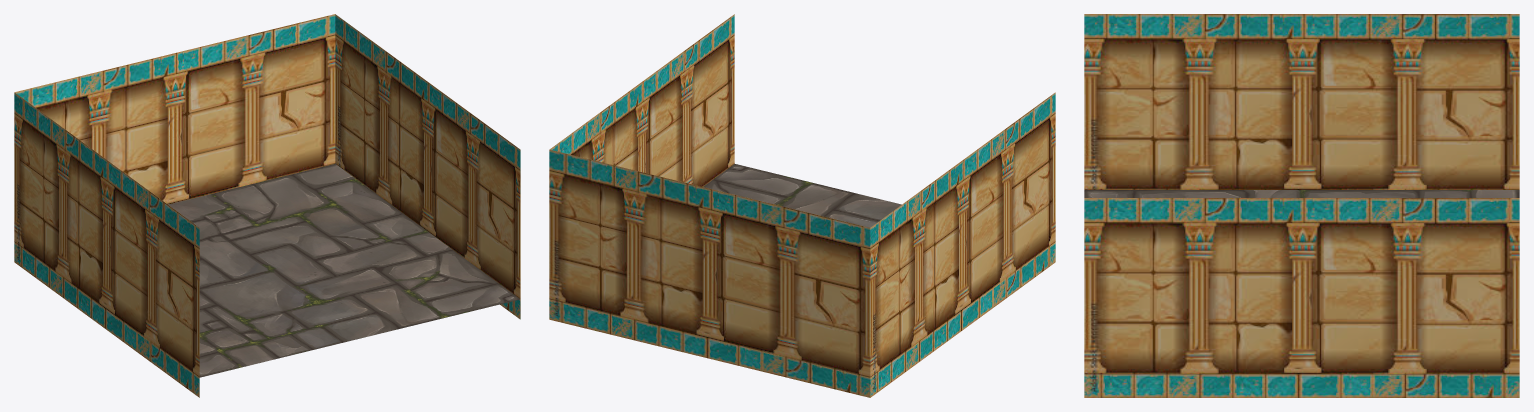
Rendered from Miltons_Quest_BaseChamber.fbx.
The picture shows the model from 3 angles, left to right: view 1: azimuth 30°, elevation 25°; view 2: azimuth 150°, elevation 25°; view 3: azimuth 270°, elevation 25°; orthographic projection. The views are drawn at different scales.
Visible parts, largest first — view 1: Floor, Back_Wall, Left_Wall, Right_Wall; view 2: Back_Wall, Left_Wall, Right_Wall, Floor; view 3: Right_Wall, Left_Wall, Floor.
Boxes of the visible parts, x1,y1,x2,y2 form: Floor: [168, 164, 520, 377]; Back_Wall: [15, 14, 335, 204]; Left_Wall: [14, 92, 199, 397]; Right_Wall: [335, 14, 520, 319]; Back_Wall: [549, 149, 870, 397]; Left_Wall: [870, 92, 1055, 397]; Right_Wall: [550, 14, 734, 186]; Floor: [703, 164, 901, 376]; Right_Wall: [1084, 198, 1519, 397]; Left_Wall: [1084, 14, 1519, 189]; Floor: [1084, 190, 1519, 374].
Size of the model in its own units: 1000 by 506 by 1000.
Materials: 2 (2 with a texture image).
